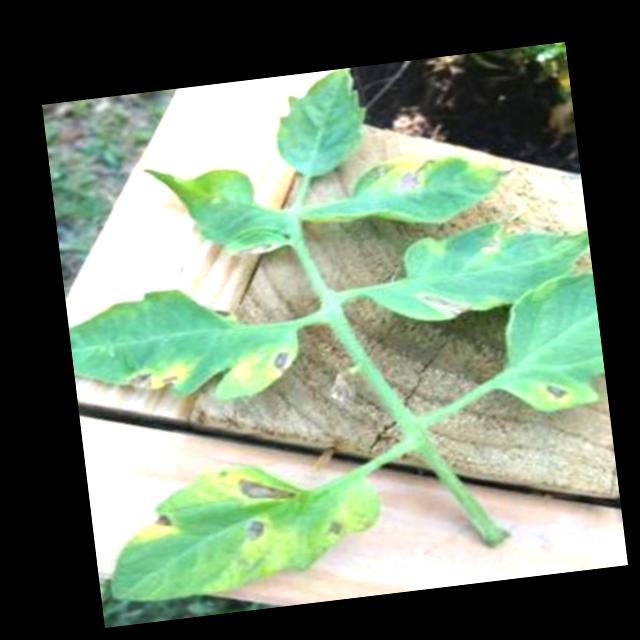Early_blight: (211, 460, 298, 510), (115, 357, 197, 397), (414, 283, 472, 327), (130, 508, 180, 544), (385, 156, 424, 194), (261, 340, 297, 377), (238, 515, 271, 543), (542, 378, 574, 404), (234, 239, 274, 256), (475, 231, 503, 253)
